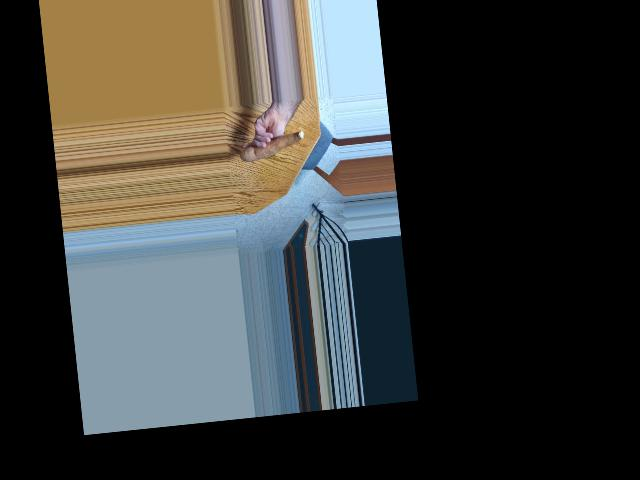sweet_potato: (241, 128, 308, 165)
